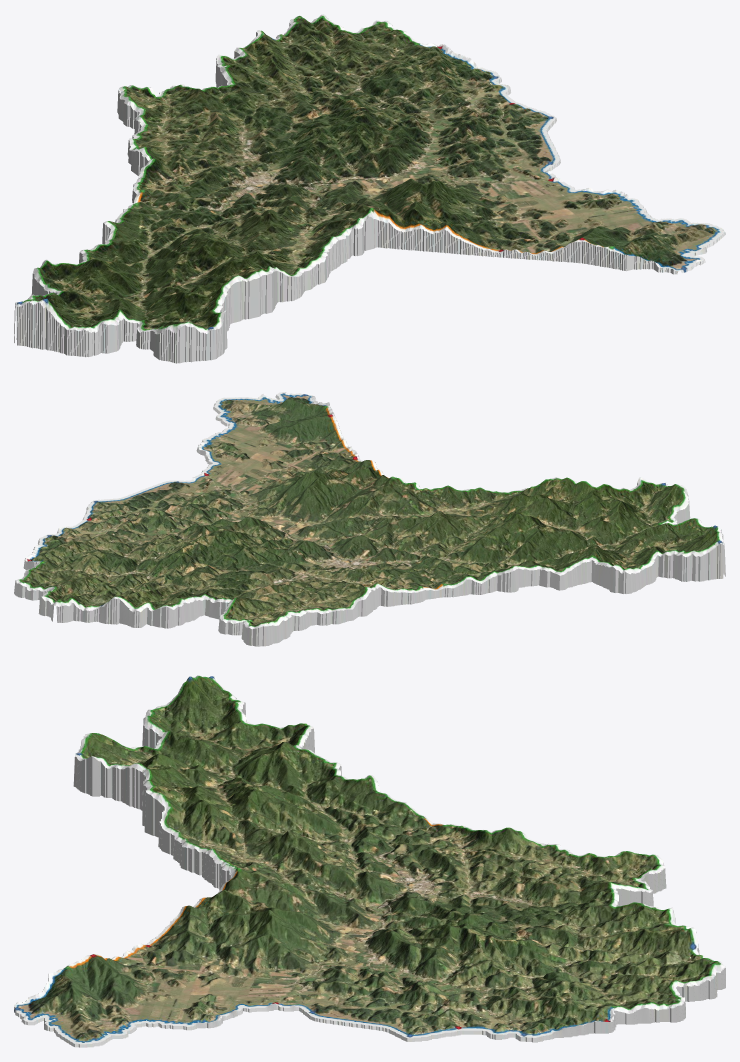
The picture shows the model from 3 angles, top to bottom: view 1: azimuth 30°, elevation 25°; view 2: azimuth 150°, elevation 25°; view 3: azimuth 270°, elevation 25°; orthographic projection. The views are drawn at different scales.
Bounding box in the file's own units: 1 × 0.0705 × 0.91.
1 material, 1 textured.
